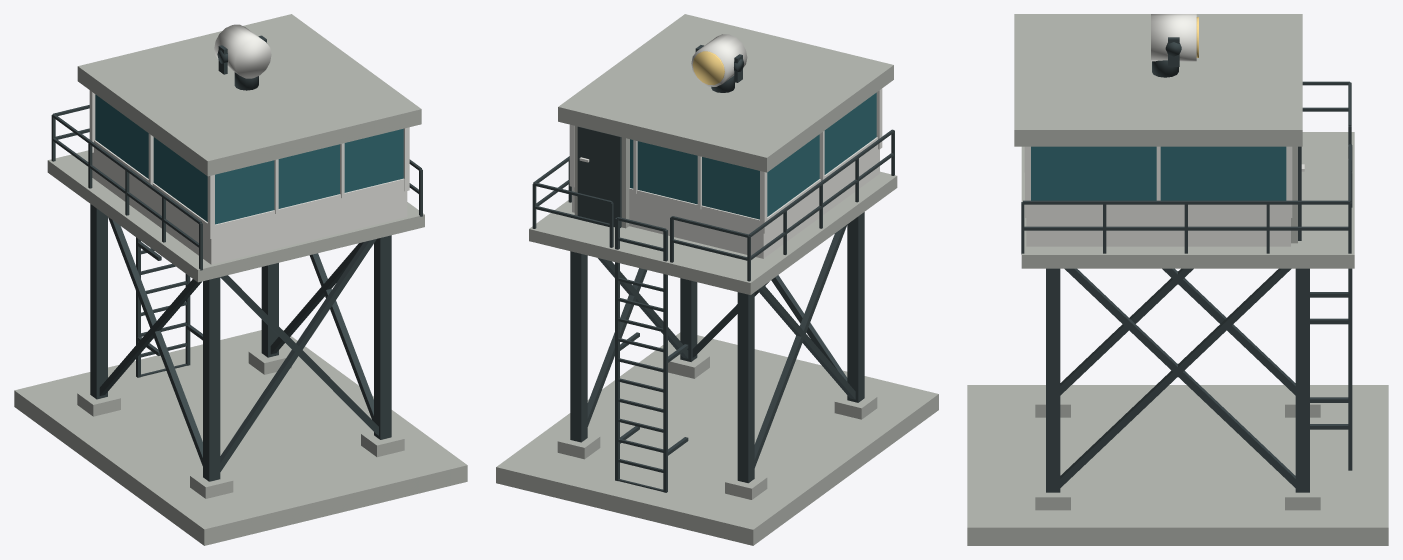
The model's file is ENV_WatchPost_LOD1.fbx.
The picture shows the model from 3 angles, left to right: view 1: azimuth 30°, elevation 25°; view 2: azimuth 150°, elevation 25°; view 3: azimuth 270°, elevation 25°; orthographic projection. The views are drawn at different scales.
Parts seen in each view (by area): view 1: ENV_WatchPost_Root_Visual, SearchlightPivot_Visual; view 2: ENV_WatchPost_Root_Visual, SearchlightPivot_Visual; view 3: ENV_WatchPost_Root_Visual, SearchlightPivot_Visual.
Boxes of the visible parts, x1,y1,x2,y2 form: ENV_WatchPost_Root_Visual: (14,14,467,545); SearchlightPivot_Visual: (214,24,271,78); ENV_WatchPost_Root_Visual: (496,14,938,545); SearchlightPivot_Visual: (691,34,747,86); ENV_WatchPost_Root_Visual: (967,14,1388,545); SearchlightPivot_Visual: (1151,14,1198,66).
Bounding box in the file's own units: 400 × 600 × 500.
